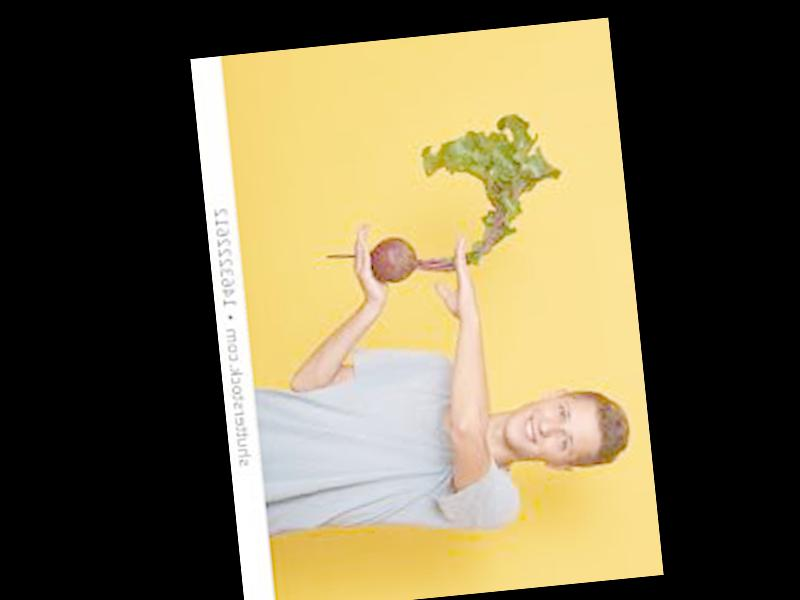Beet: (315, 109, 570, 289)
